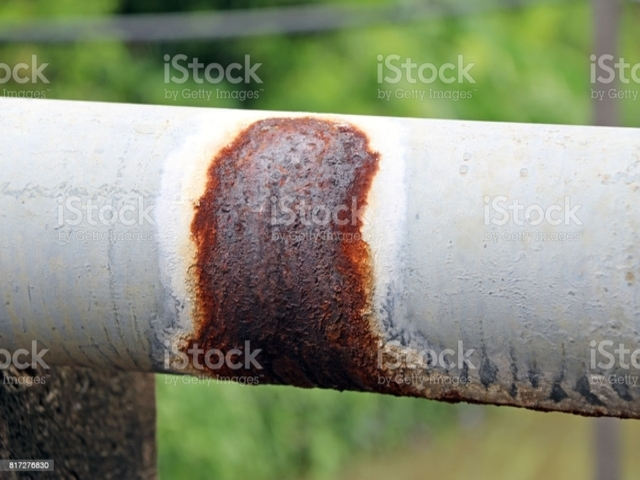Severe: (191, 105, 399, 392)
